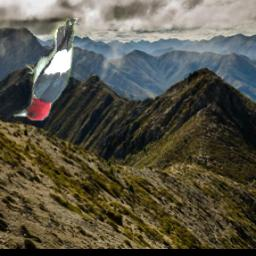Woodpecker: (14, 18, 80, 120)
